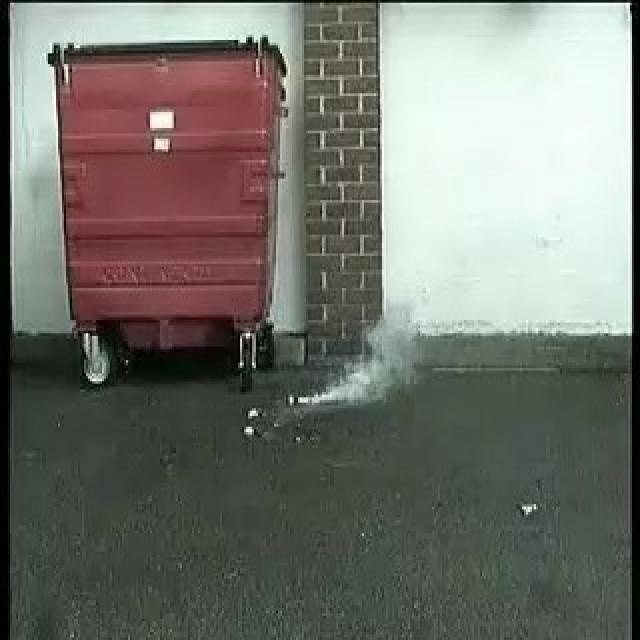smoke: (296, 307, 408, 410)
